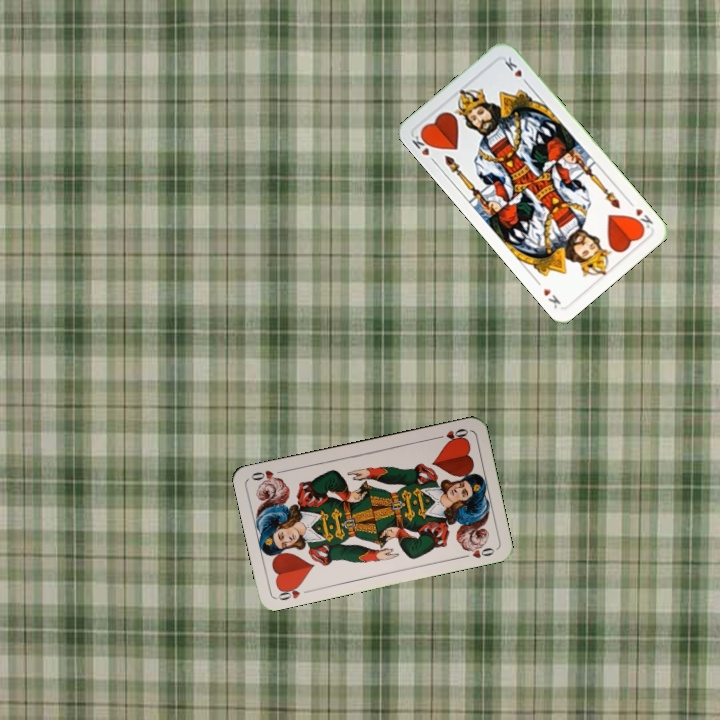HK: (624, 197, 656, 234), (408, 128, 439, 166)
HO: (273, 580, 313, 603), (431, 424, 471, 445)
